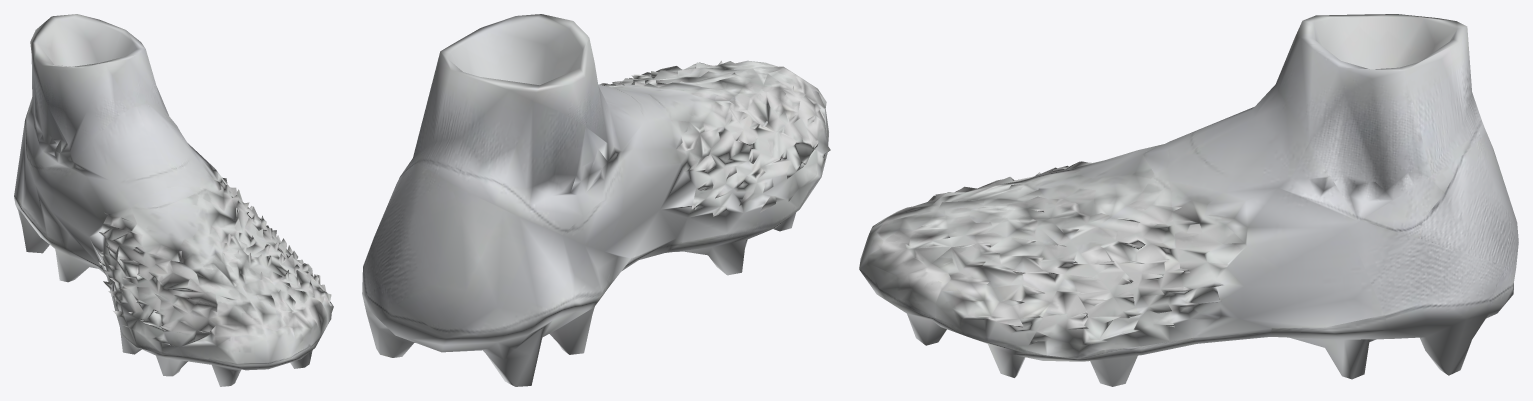
File: boot-speed-lod.glb
3 renders of one model, left to right at view 1: azimuth 30°, elevation 25°; view 2: azimuth 150°, elevation 25°; view 3: azimuth 270°, elevation 25°, orthographic. The views are drawn at different scales.
Visible parts, largest first — view 1: tripo_node_89fdebab-ce0b-486e-8800-861061ddf643; view 2: tripo_node_89fdebab-ce0b-486e-8800-861061ddf643; view 3: tripo_node_89fdebab-ce0b-486e-8800-861061ddf643.
Part boxes in pixels (x1,y1,x2,y2): tripo_node_89fdebab-ce0b-486e-8800-861061ddf643: [14, 14, 333, 386]; tripo_node_89fdebab-ce0b-486e-8800-861061ddf643: [362, 14, 830, 386]; tripo_node_89fdebab-ce0b-486e-8800-861061ddf643: [859, 14, 1518, 386].
Bounding box in the file's own units: 0.4455 × 0.5007 × 0.9961.
Materials: 1 (1 with a texture image).
